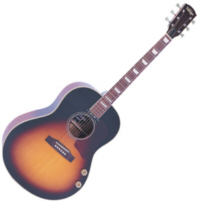guitar: (2, 3, 198, 200)
